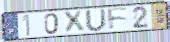0: (44, 12, 60, 35)
1: (21, 13, 32, 38)
2: (131, 5, 149, 30)
F: (106, 7, 130, 32)
U: (85, 8, 108, 32)
X: (62, 10, 87, 35)
